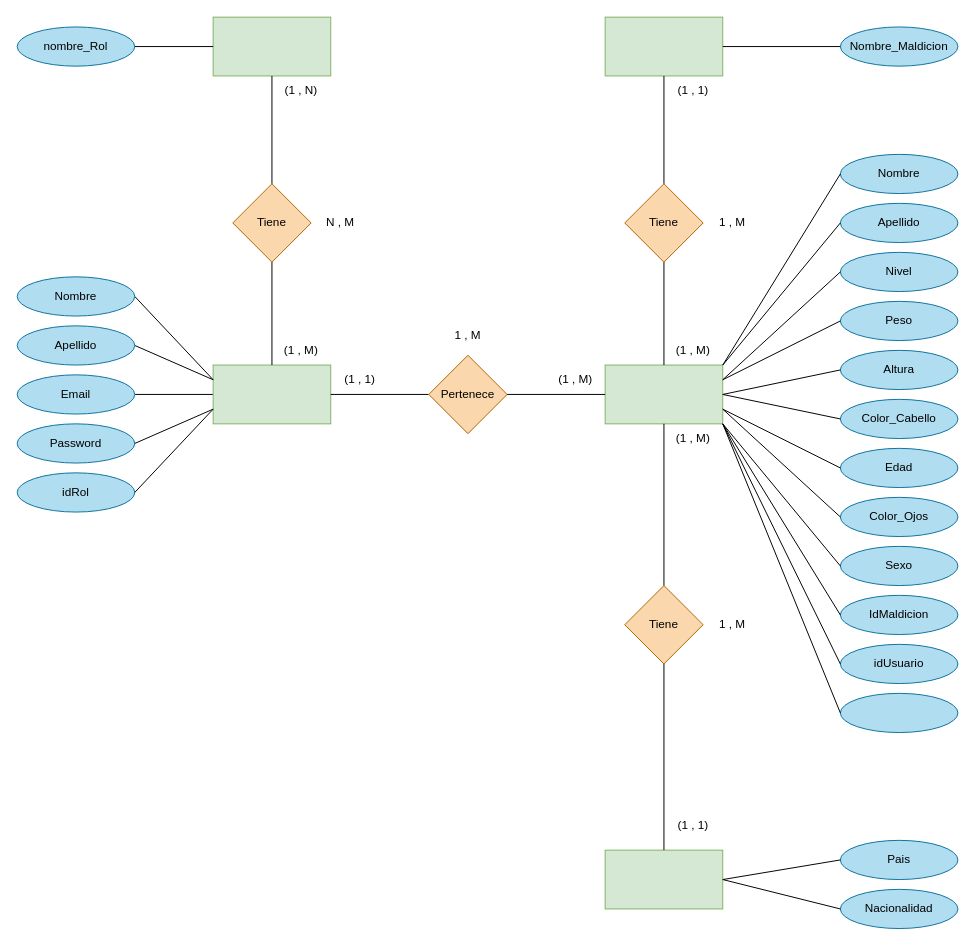
This 975x946 diagram has some shape labels left out. Here are the shapes that lost their labels. From the top down, the centre of each, then its label:
At point 271,46: "Roles".
At point 663,46: "Maldiciones".
At point 271,394: "Usuarios".
At point 663,394: "Personajes".
At point 898,712: "idNacionalidad".
At point 663,879: "Nacionalidades".
